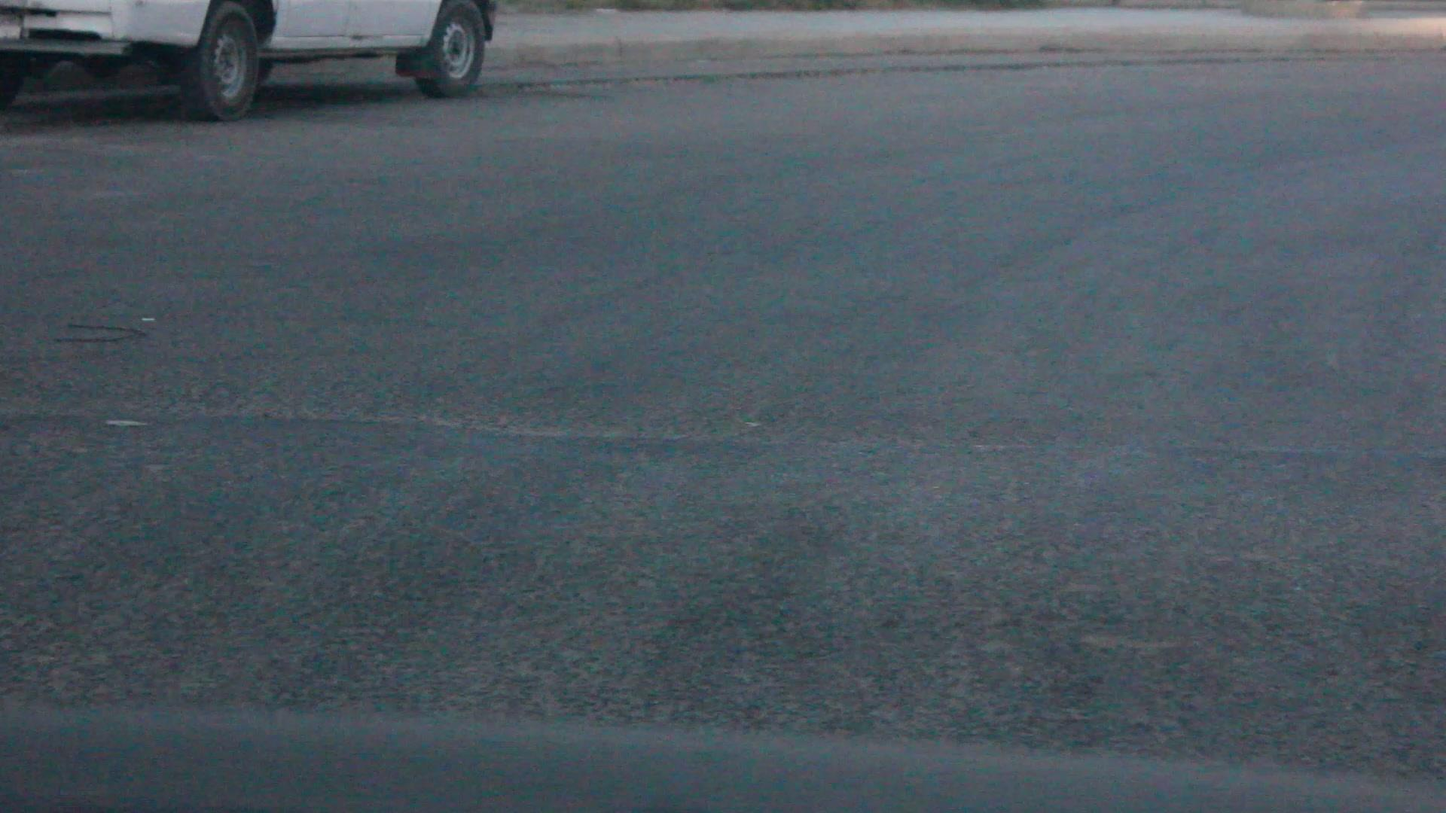Bump: (53, 391, 1446, 794)
